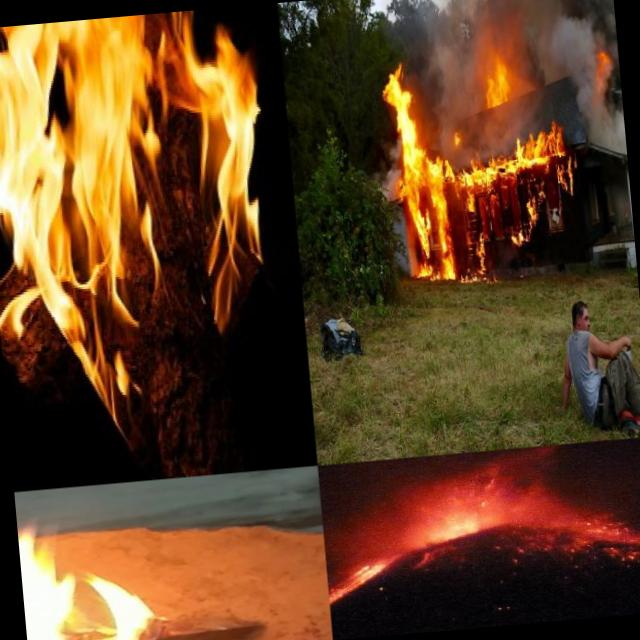fire: (0, 4, 291, 439), (386, 121, 584, 292), (15, 493, 179, 640), (413, 472, 496, 544), (378, 59, 431, 138), (476, 53, 512, 114), (590, 40, 614, 94)
smoke: (384, 0, 502, 61), (497, 0, 597, 64), (574, 93, 628, 183), (426, 54, 482, 136), (584, 0, 617, 42)
